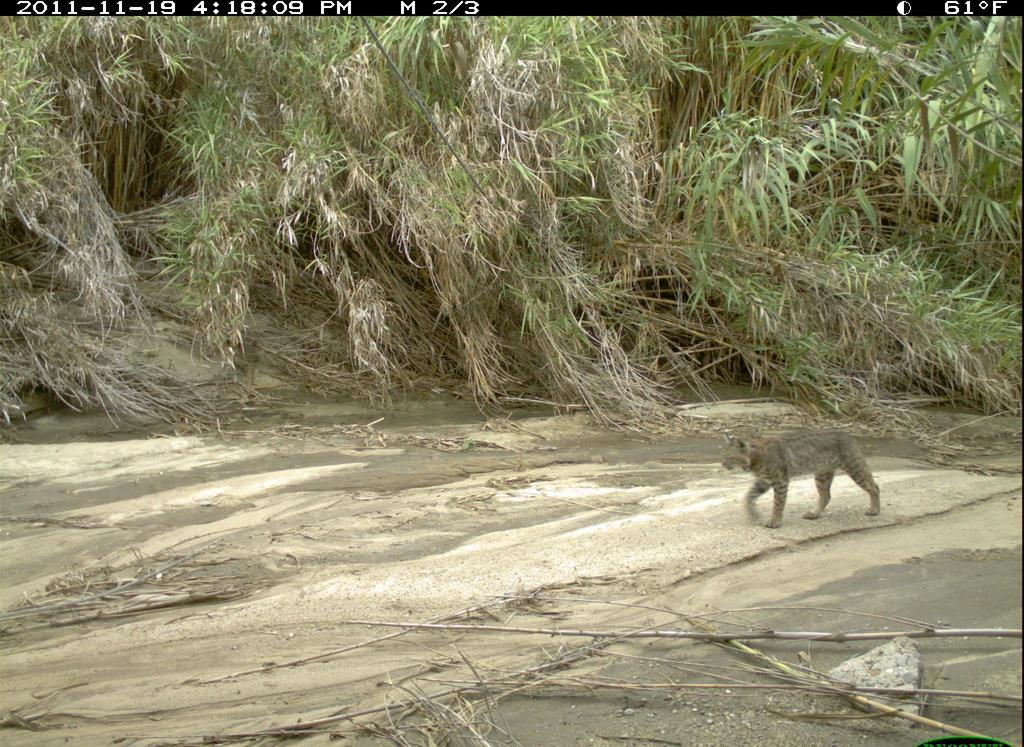bobcat: (713, 418, 912, 533)
